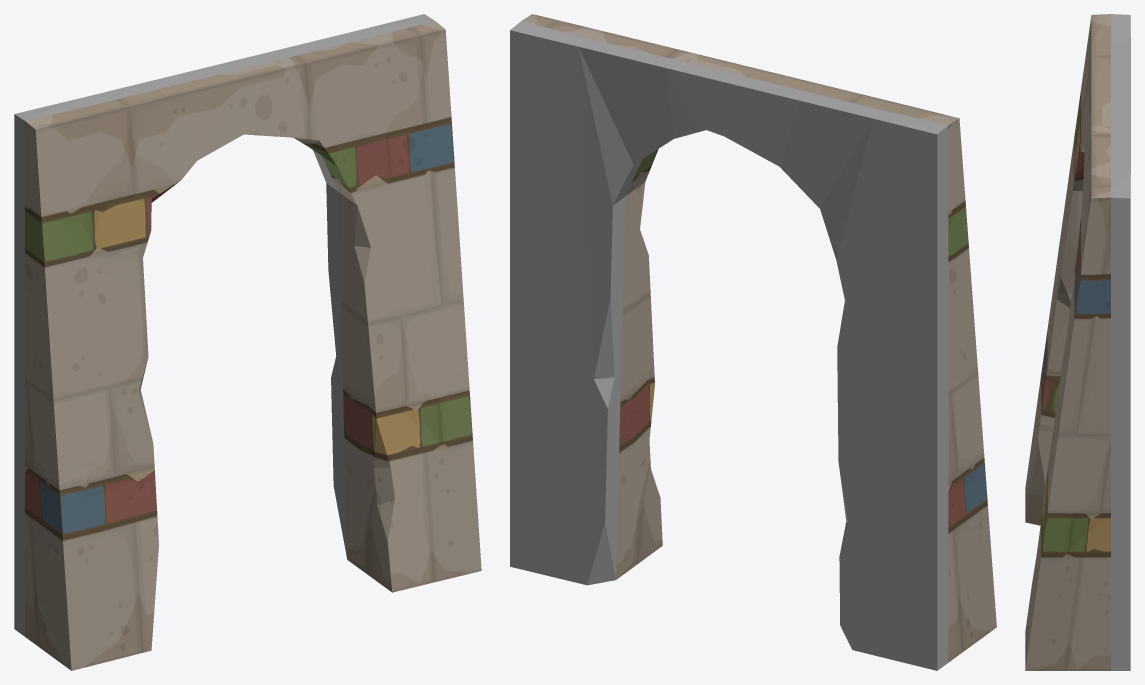
Rendered from SM_Bld_Archway_Top_01.fbx.
3 renders of one model, left to right at view 1: azimuth 30°, elevation 25°; view 2: azimuth 150°, elevation 25°; view 3: azimuth 270°, elevation 25°, orthographic. The views are drawn at different scales.
Parts seen in each view (by area): view 1: SM_Bld_Archway_Top_01; view 2: SM_Bld_Archway_Top_01; view 3: SM_Bld_Archway_Top_01.
Boxes of the visible parts, x1=… form: SM_Bld_Archway_Top_01: x1=14, y1=14, x2=481, y2=670; SM_Bld_Archway_Top_01: x1=510, y1=14, x2=996, y2=670; SM_Bld_Archway_Top_01: x1=1025, y1=14, x2=1130, y2=670.
Size of the model in its own units: 250 by 301 by 60.45.
